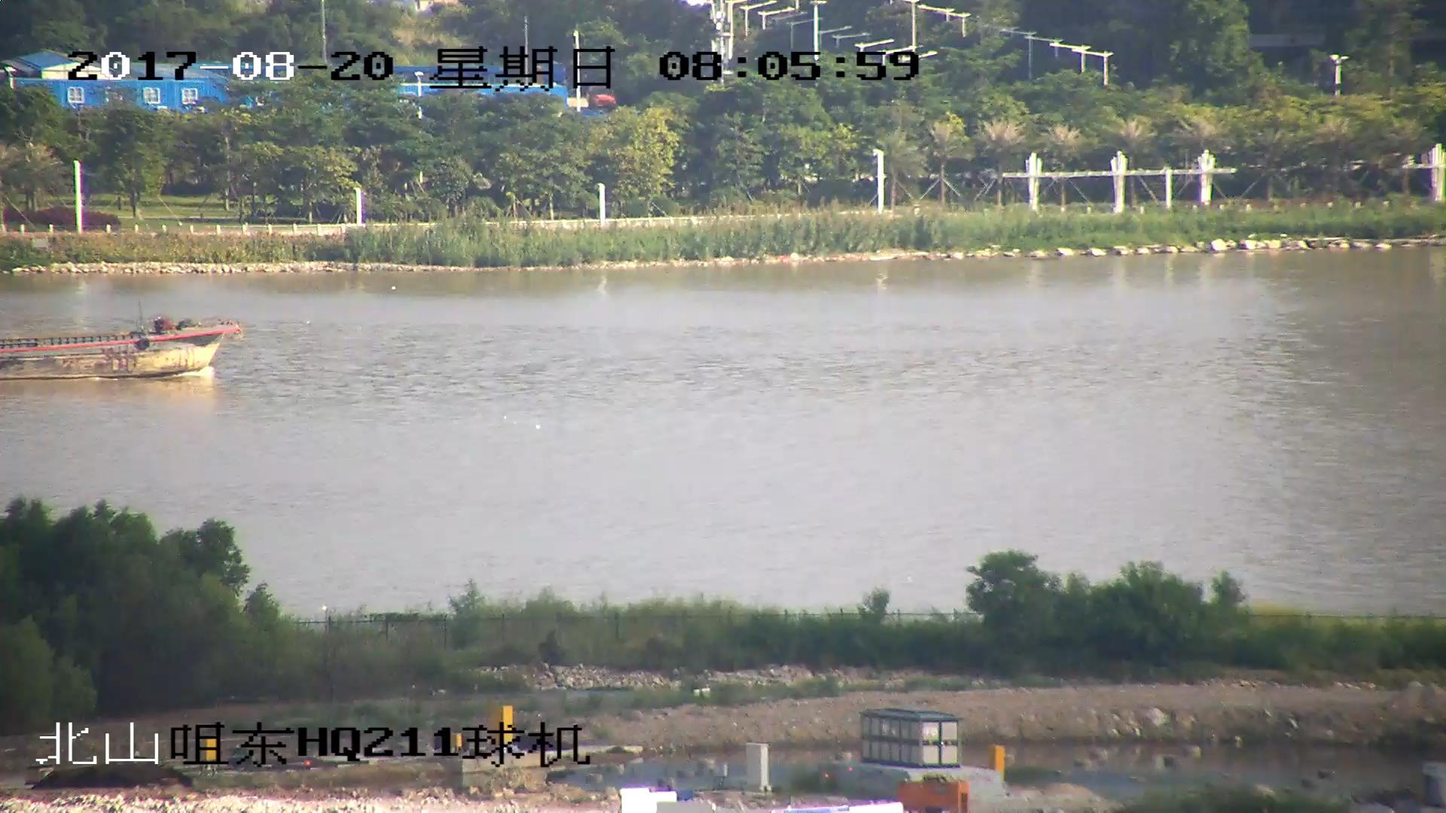fishing boat: (0, 312, 236, 382)
